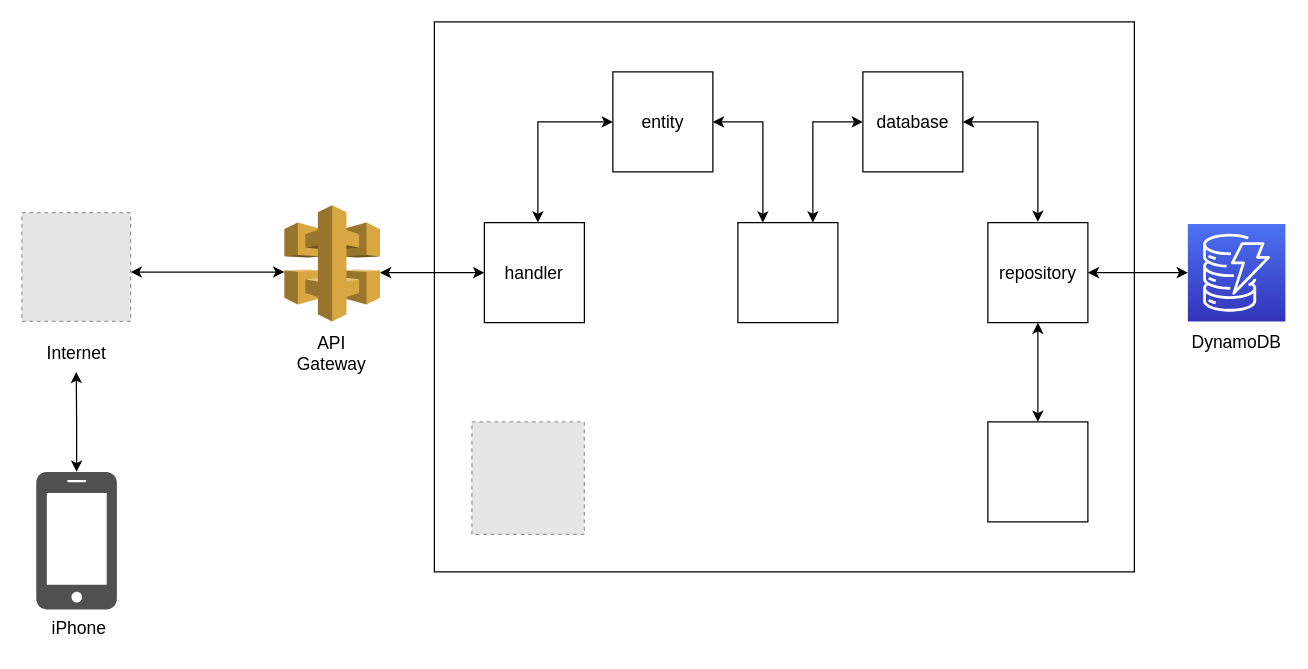
This 1308x669 diagram has some shape labels left out. Grey dashed boxes stand in for pictures. Each missing label, with the centre of its shape:
"service" belongs at (787,272).
"validation" belongs at (1037,471).
